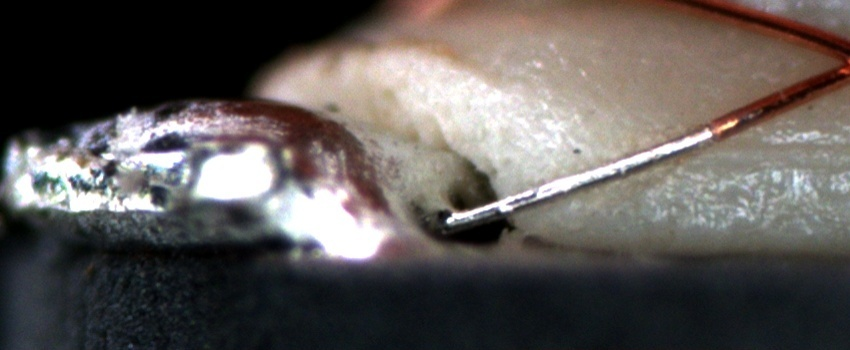CL: (826, 39, 850, 85)
DL: (700, 129, 850, 186)
TS: (442, 126, 713, 232)
